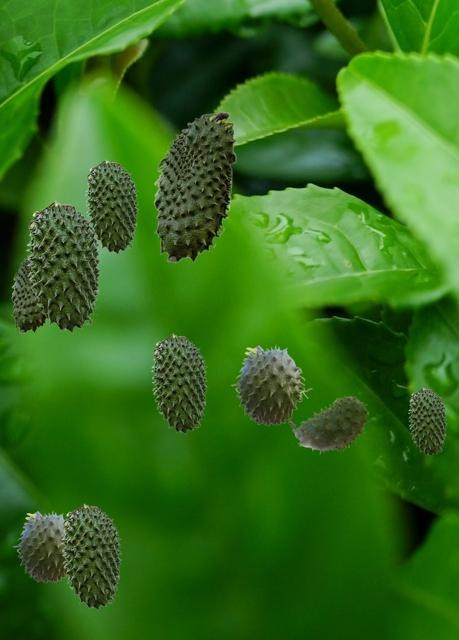guyabano: (153, 111, 236, 262), (26, 200, 101, 332), (231, 344, 311, 425), (61, 503, 121, 609), (151, 333, 207, 433), (85, 159, 138, 253), (288, 396, 368, 453), (13, 510, 67, 582), (11, 253, 48, 332), (408, 387, 446, 455)
